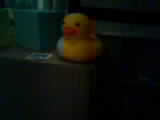duck: (57, 10, 100, 62)
